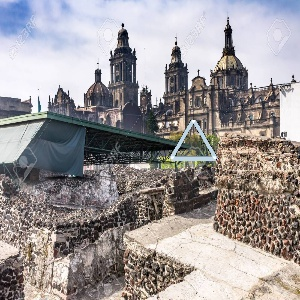triangle: (164, 118, 222, 164)
